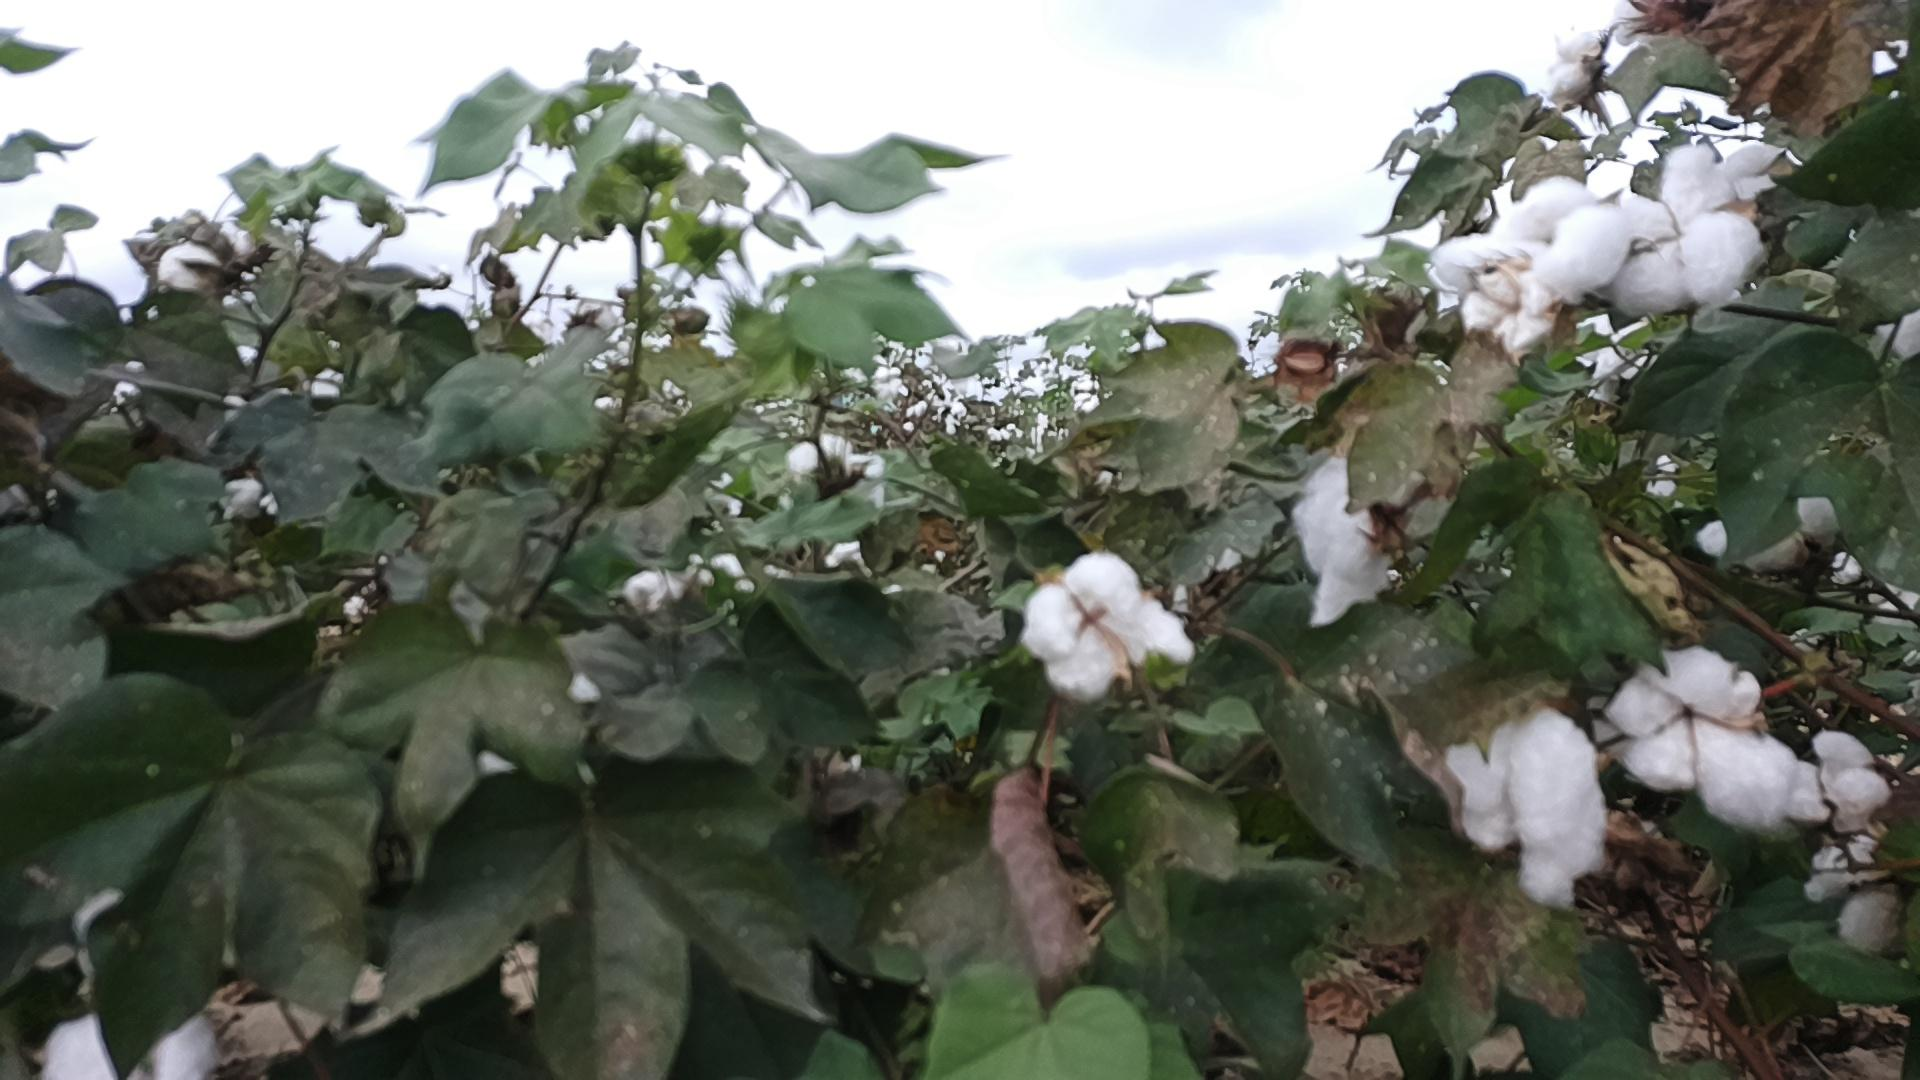cotton_ready: (1452, 703, 1618, 915), (1615, 646, 1800, 827), (1607, 144, 1768, 318), (1022, 550, 1196, 699), (1294, 454, 1394, 629), (1493, 177, 1629, 303), (1432, 228, 1561, 359), (1805, 832, 1904, 951), (1787, 728, 1888, 835)
